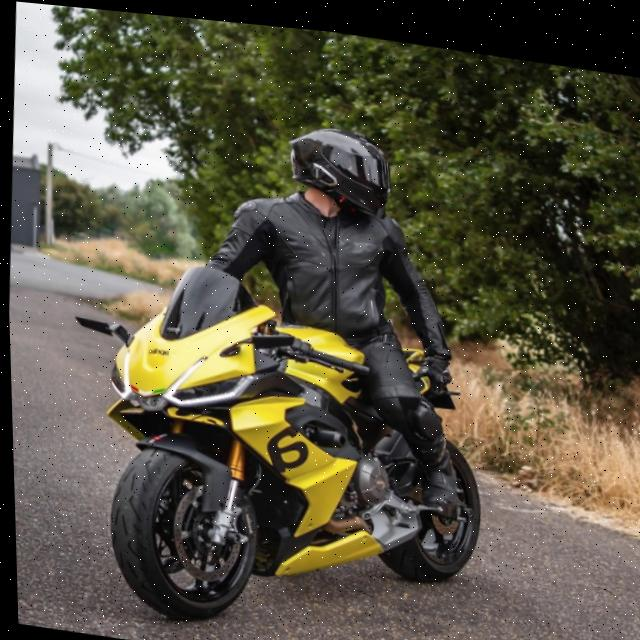helmet: (279, 110, 400, 219)
